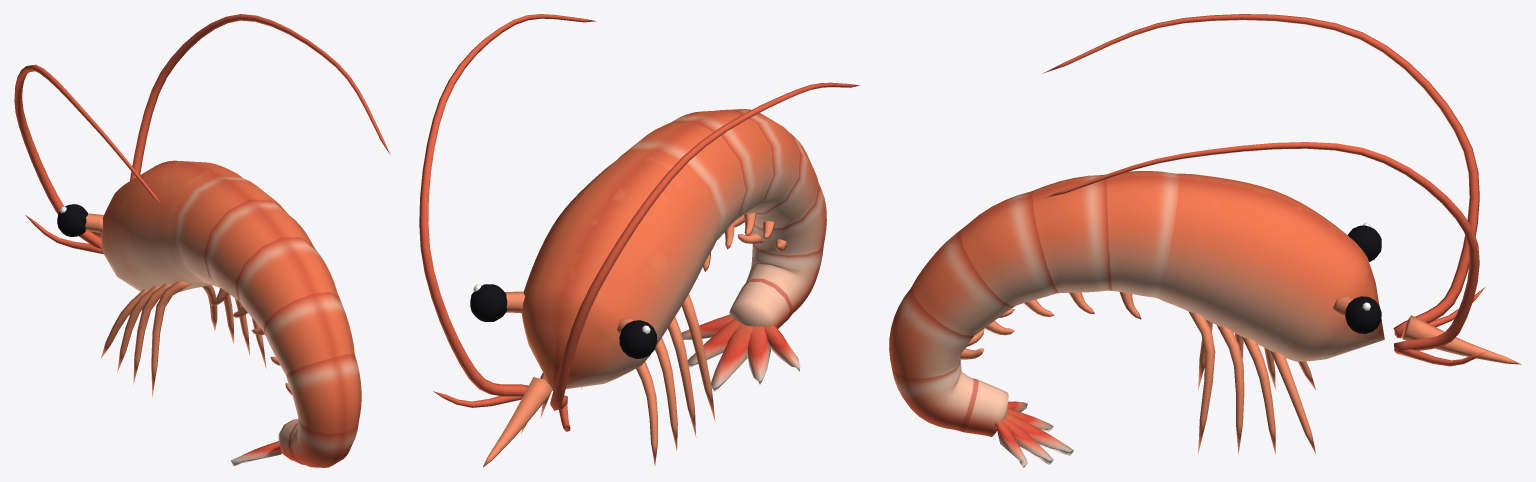
File: Shrimp.glb
The picture shows the model from 3 angles, left to right: view 1: azimuth 30°, elevation 25°; view 2: azimuth 150°, elevation 25°; view 3: azimuth 270°, elevation 25°; orthographic projection. The views are drawn at different scales.
Visible parts, largest first — view 1: Shrimp; view 2: Shrimp; view 3: Shrimp.
Boxes of the visible parts, left/top/right/bottom form: Shrimp: left=14, top=14, right=389, bottom=467; Shrimp: left=419, top=14, right=859, bottom=467; Shrimp: left=889, top=14, right=1521, bottom=467.
Bounding box in the file's own units: 0.5489 × 0.7022 × 1.07.
Materials: 1 (1 with a texture image).
